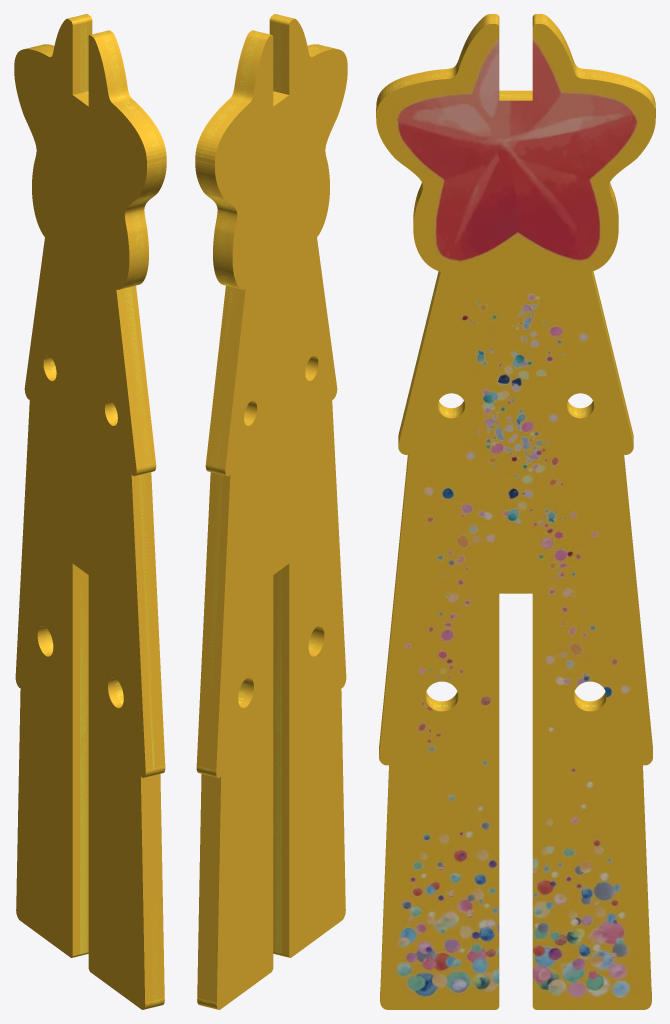
Rendered from tall-stabilizer-02.glb.
3 renders of one model, left to right at view 1: azimuth 30°, elevation 25°; view 2: azimuth 150°, elevation 25°; view 3: azimuth 270°, elevation 25°, orthographic. The views are drawn at different scales.
Parts seen in each view (by area): view 1: tall-stabilizer-02; view 2: tall-stabilizer-02; view 3: tall-stabilizer-02.
Part boxes in pixels (<box>): tall-stabilizer-02: <box>14,14,166,1009</box>; tall-stabilizer-02: <box>195,14,347,1009</box>; tall-stabilizer-02: <box>376,14,655,1009</box>.
Bounding box in the file's own units: 24 × 1095 × 282.
Materials: 4 (2 with a texture image).
